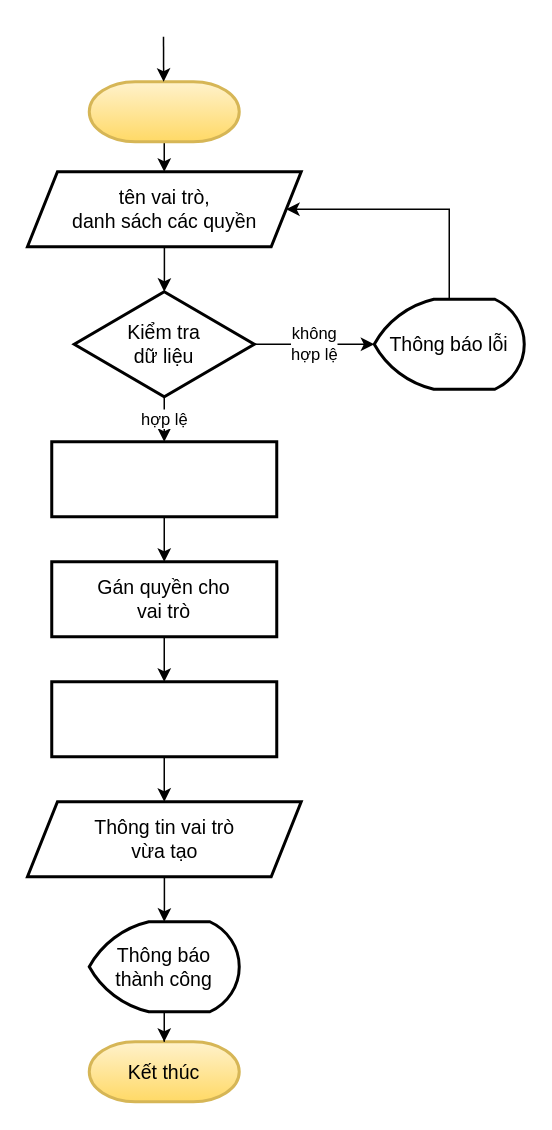
The diagram is 552 pixels wide and 1130 high, and some of its shapes have lost their labels. The shapes that lost their labels are listed below. From the top down, each one's centre as x and y in pixels, then its label:
At (163,111): "Bắt đầu".
At (164,479): "Lưu thông tin vai trò".
At (164,719): "Thêm vai trò vào cửa hàng".
